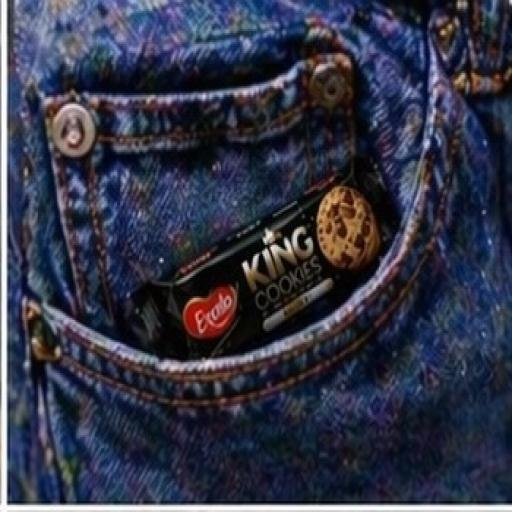king_cooking: (104, 144, 421, 376)
